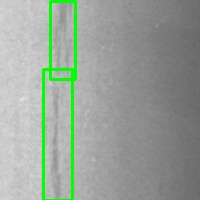inclusion: (43, 69, 72, 200), (50, 1, 75, 79)
